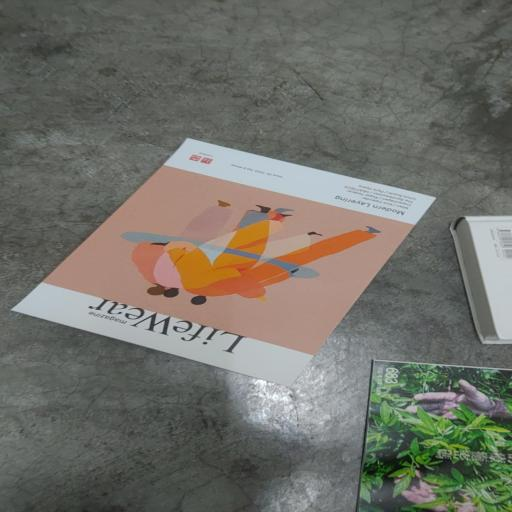paper: (12, 136, 438, 379), (352, 356, 512, 512)
